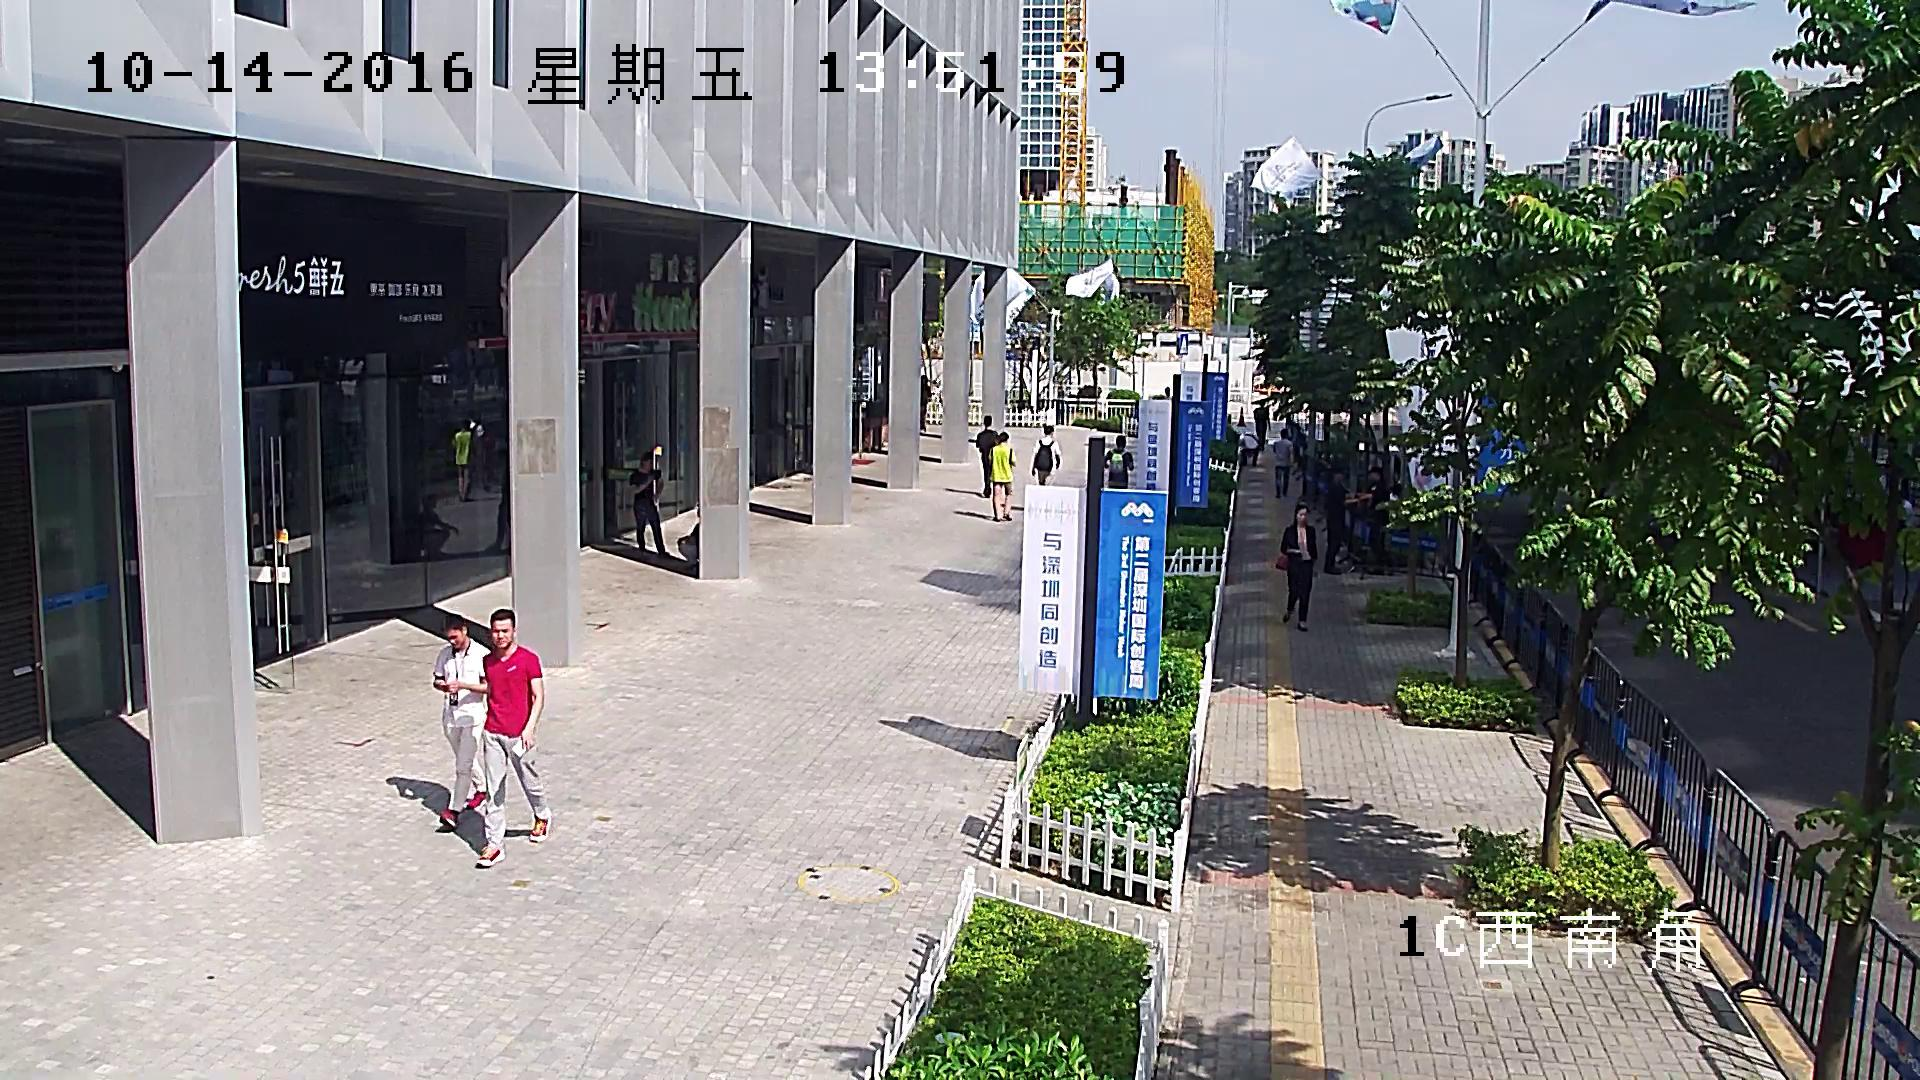person: (474, 607, 552, 872), (431, 614, 491, 834), (1275, 504, 1320, 634), (628, 450, 671, 563), (1356, 466, 1394, 574), (1320, 463, 1356, 576), (412, 491, 462, 561), (988, 429, 1017, 523), (972, 412, 1002, 497), (487, 453, 511, 554), (449, 420, 476, 502), (1029, 424, 1061, 488), (1103, 434, 1137, 489), (1270, 426, 1295, 499), (676, 502, 699, 577), (1253, 399, 1274, 453), (1238, 429, 1262, 469), (920, 374, 930, 435)
